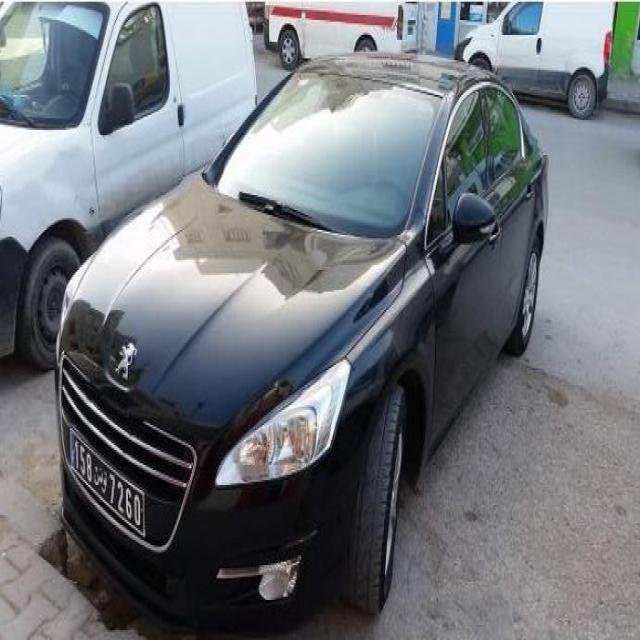LP: (66, 430, 146, 538)
